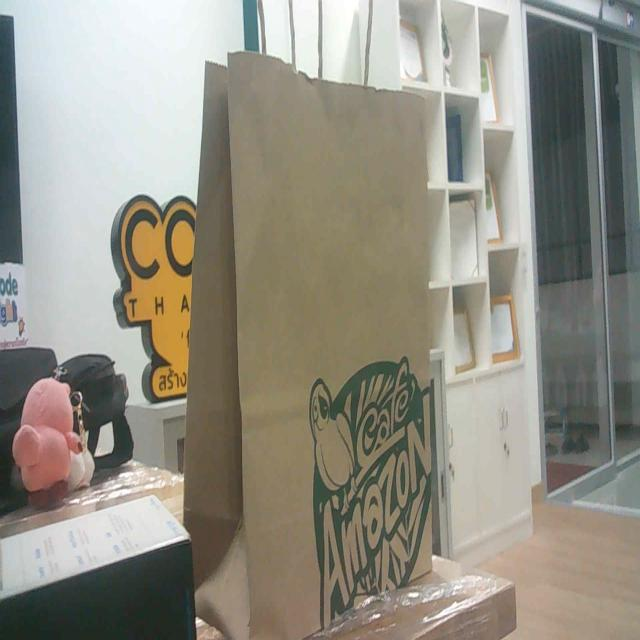bag: (194, 22, 472, 640)
